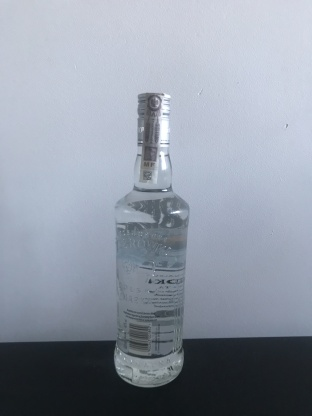nakretka: (133, 86, 174, 152)
